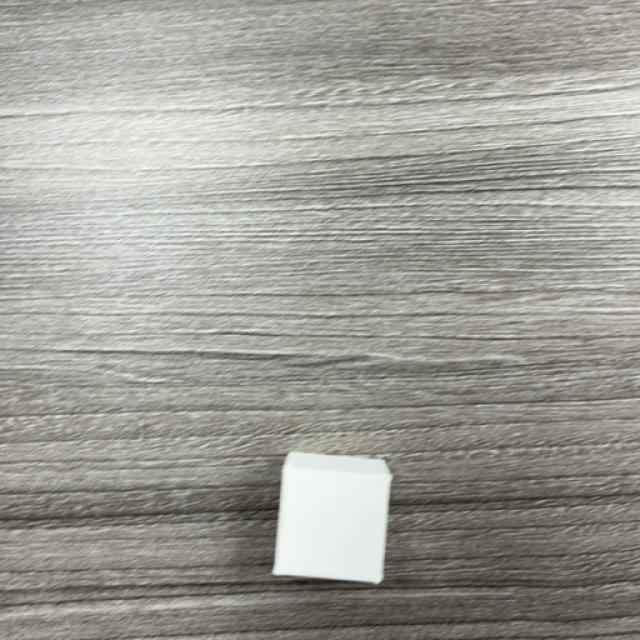Blanco: (272, 451, 392, 586)
